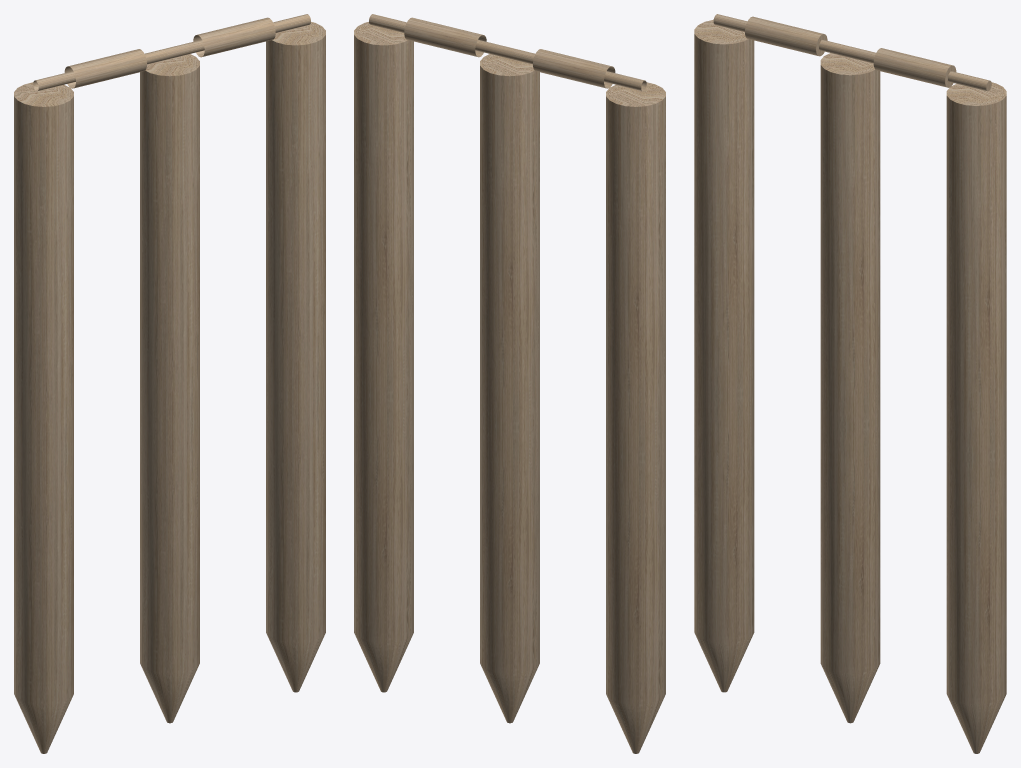
File: wicket.FBX
3 renders of one model, left to right at view 1: azimuth 30°, elevation 25°; view 2: azimuth 150°, elevation 25°; view 3: azimuth 330°, elevation 25°, orthographic.
Visible parts, largest first — view 1: Cylinder002; view 2: Cylinder002; view 3: Cylinder002.
Part boxes in pixels (x1,y1,x2,y2): Cylinder002: (14,14,325,753); Cylinder002: (354,14,665,753); Cylinder002: (694,14,1006,753).
Size of the model in its own units: 30.12 by 64.19 by 5.12.
1 material, 1 textured.
